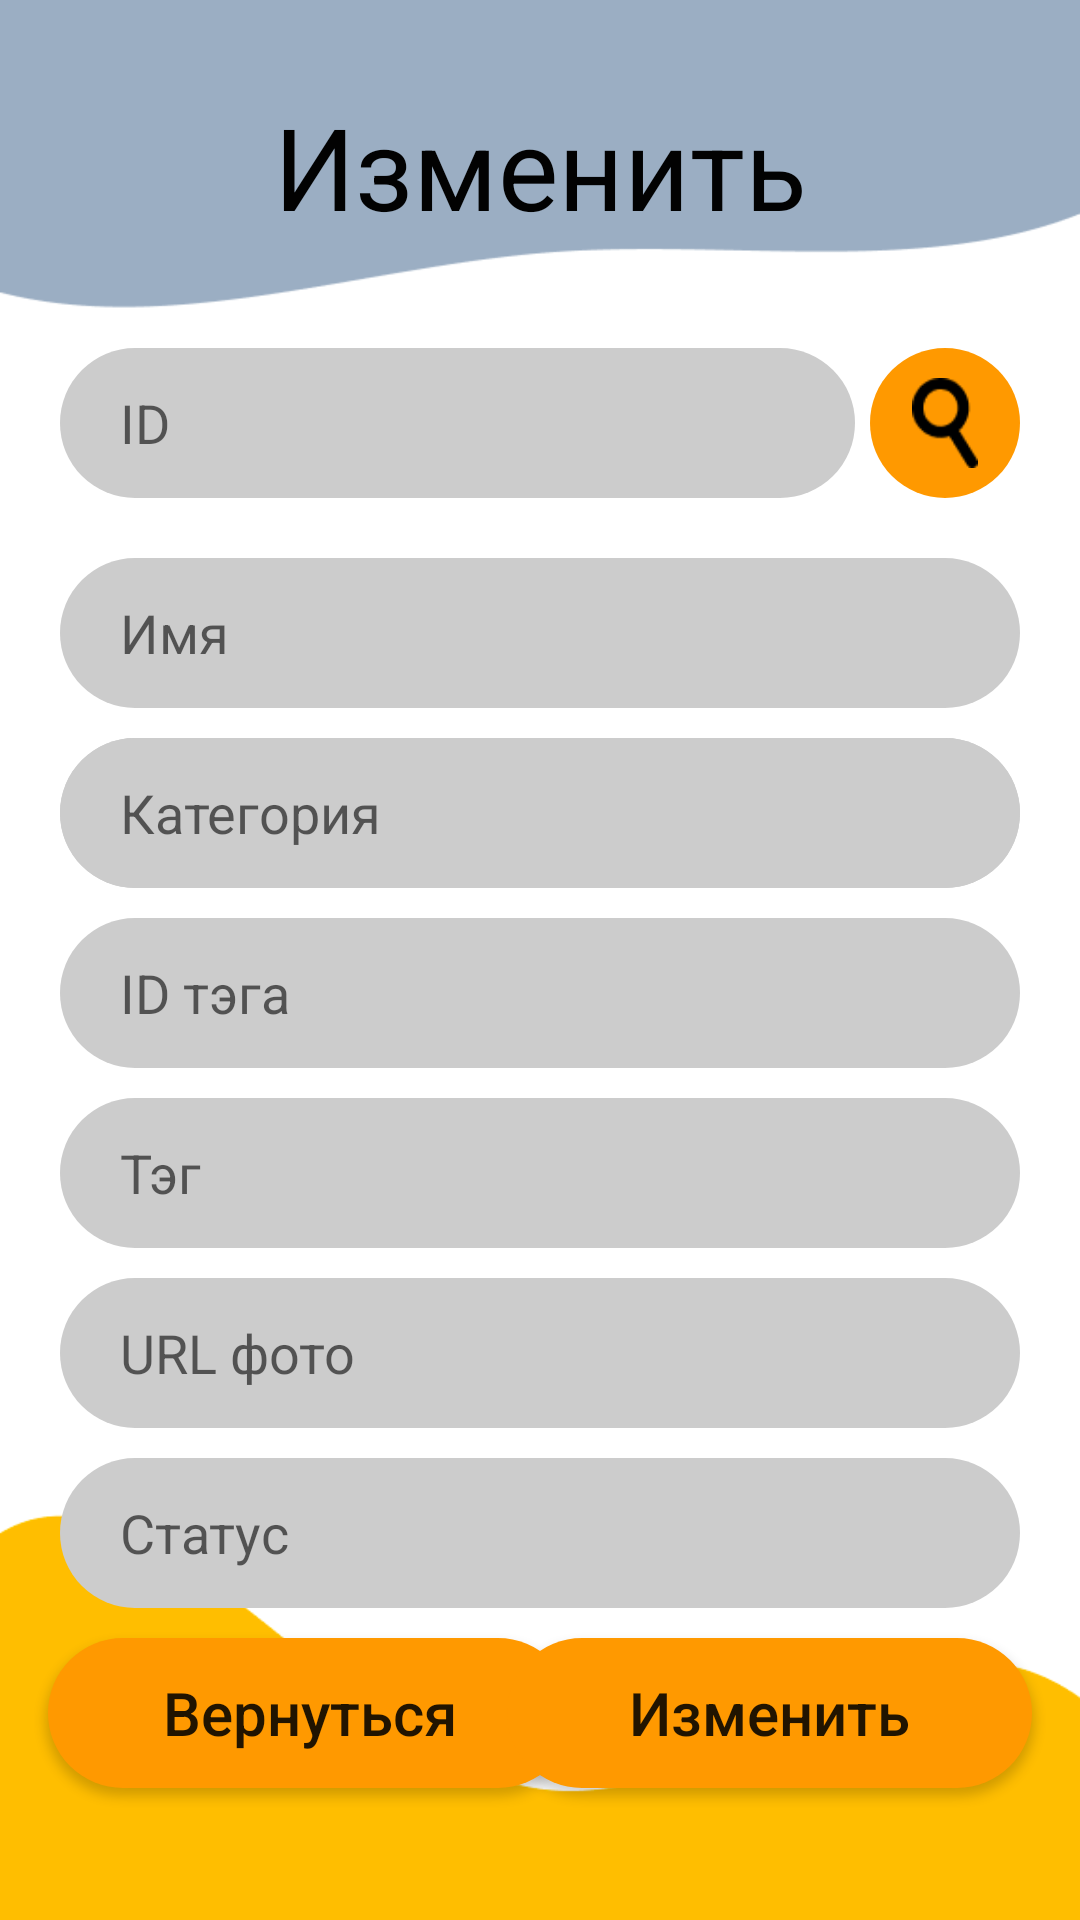

Named icons in this screenshot (1080w x 1920h) and their centers, point (x, y):
search: point (945, 423)
